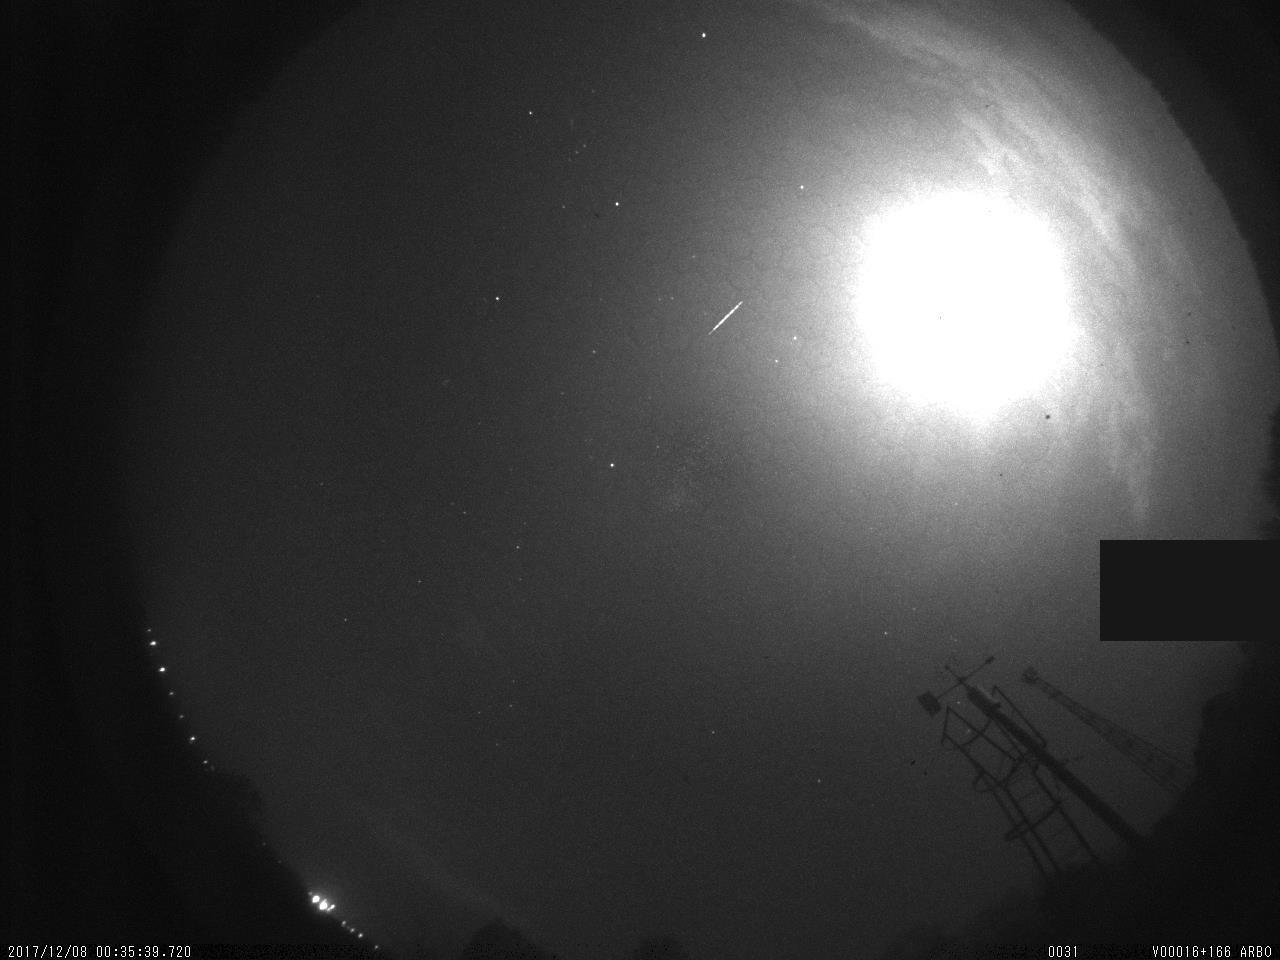meteor: (700, 291, 752, 342)
